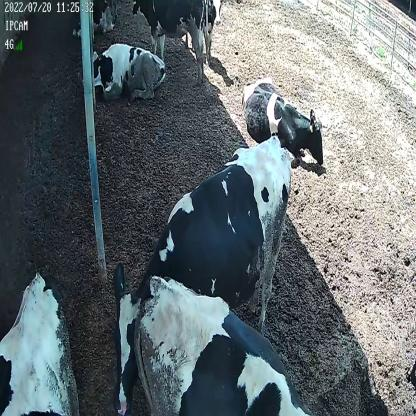cow: (113, 133, 295, 416), (240, 76, 327, 172), (129, 0, 209, 90), (77, 42, 167, 108)
